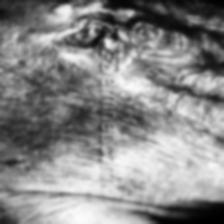Potentially Malignant Skin Tumors: (52, 0, 190, 65)
